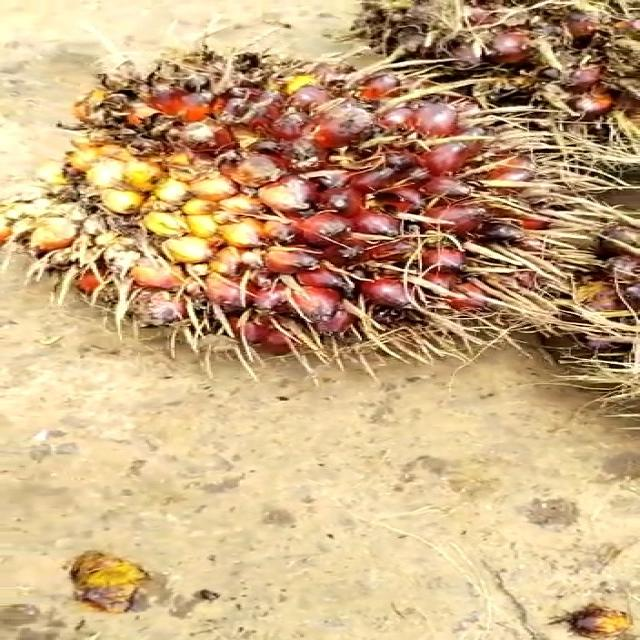palm oil: (27, 42, 619, 374)
